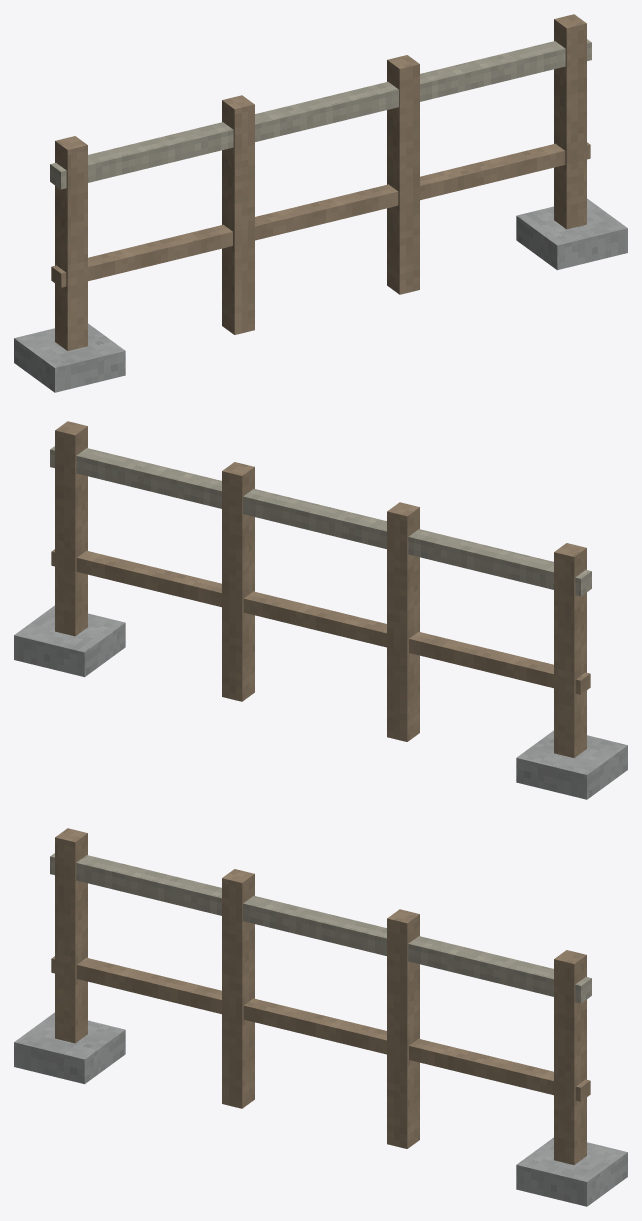
Rendered from level_blockout_cave_ledge_rope_guard.glb.
3 renders of one model, top to bottom at view 1: azimuth 30°, elevation 25°; view 2: azimuth 150°, elevation 25°; view 3: azimuth 330°, elevation 25°, orthographic.
Parts seen in each view (by area): view 1: level_blockout_cave_ledge_rope_guard; view 2: level_blockout_cave_ledge_rope_guard; view 3: level_blockout_cave_ledge_rope_guard.
Part boxes in pixels (x1=…): level_blockout_cave_ledge_rope_guard: x1=14, y1=14, x2=627, y2=392; level_blockout_cave_ledge_rope_guard: x1=14, y1=421, x2=627, y2=799; level_blockout_cave_ledge_rope_guard: x1=14, y1=828, x2=627, y2=1206.
Size of the model in its own units: 3.4 by 1.28 by 0.42.
Materials: 3 (3 with a texture image).
